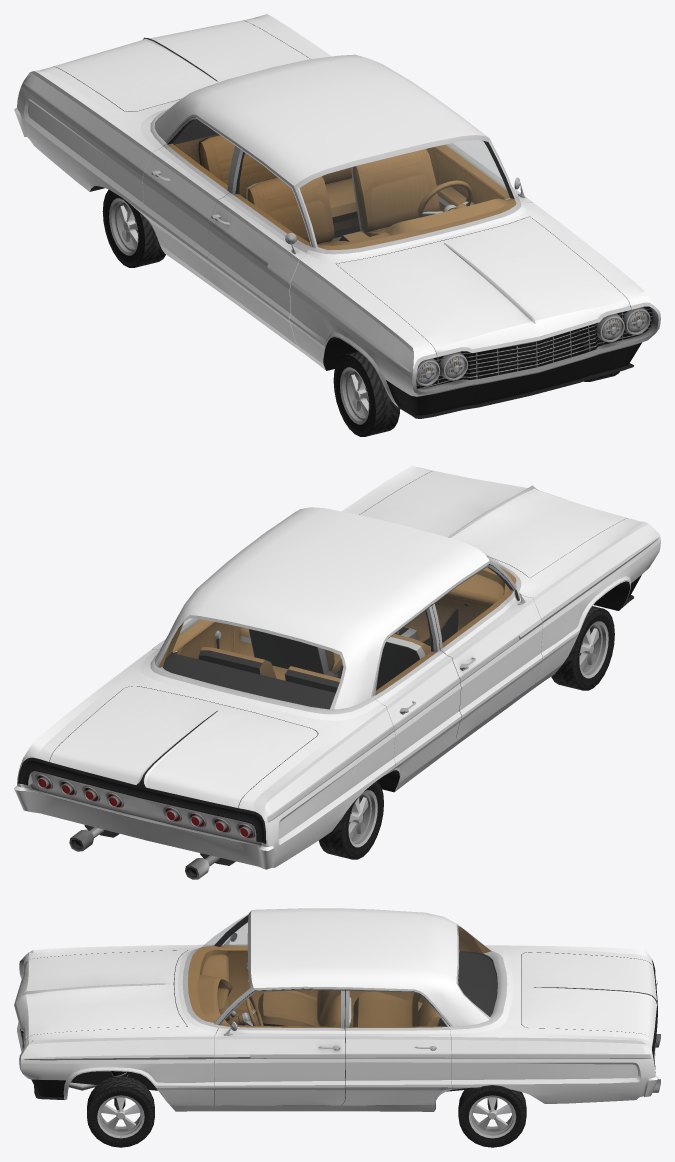
Rendered from Car_moded.fbx.
The picture shows the model from 3 angles, top to bottom: view 1: azimuth 30°, elevation 25°; view 2: azimuth 150°, elevation 25°; view 3: azimuth 270°, elevation 25°; orthographic projection. The views are drawn at different scales.
Visible parts, largest first — view 1: DC3_Sport_2_Body.001, DC3_Sport_2_Hood.003, DC3_Sport_2_Roof.001, DC3_Sport_2_Glass_F.001, DC3_Sport_2_Interior.001, DC3_Sport_2_Trunk.001, DC3_Sport_2_Door_FR.001, DC3_Sport_2_Door_BR.001, DC3_Sport_2_Wheel.003, DC3_Sport_2_Glass_FR.001, DC3_Sport_2_Door_FL.001, DC3_Sport_2_Wheel.002 (+3 smaller); view 2: DC3_Sport_2_Body.001, DC3_Sport_2_Roof.001, DC3_Sport_2_Trunk.001, DC3_Sport_2_Hood.003, DC3_Sport_2_Glass_B.001, DC3_Sport_2_Interior.001, DC3_Sport_2_Door_FR.001, DC3_Sport_2_Door_BR.001, DC3_Sport_2_Wheel.003, DC3_Sport_2_Glass_FR.001, DC3_Sport_2_Wheel.002, DC3_Sport_2_Glass_BR.001 (+2 smaller); view 3: DC3_Sport_2_Body.001, DC3_Sport_2_Roof.001, DC3_Sport_2_Hood.003, DC3_Sport_2_Door_FL.001, DC3_Sport_2_Trunk.001, DC3_Sport_1_Door_BL.001, DC3_Sport_2_Interior.001, DC3_Sport_2_Glass_F.001, DC3_Sport_2_Glass_FL.001, DC3_Sport_2_Wheel.003, DC3_Sport_2_Wheel.002, DC3_Sport_2_Glass_BL.001 (+4 smaller).
Part boxes in pixels (x1=…): DC3_Sport_2_Body.001: x1=14, y1=14, x2=660, y2=418; DC3_Sport_2_Hood.003: x1=336, y1=216, x2=631, y2=356; DC3_Sport_2_Roof.001: x1=154, y1=54, x2=488, y2=193; DC3_Sport_2_Glass_F.001: x1=300, y1=140, x2=515, y2=249; DC3_Sport_2_Interior.001: x1=198, y1=134, x2=516, y2=249; DC3_Sport_2_Trunk.001: x1=53, y1=20, x2=310, y2=111; DC3_Sport_2_Door_FR.001: x1=207, y1=146, x2=319, y2=343; DC3_Sport_2_Door_BR.001: x1=141, y1=117, x2=237, y2=285; DC3_Sport_2_Wheel.003: x1=333, y1=351, x2=619, y2=436; DC3_Sport_2_Glass_FR.001: x1=233, y1=151, x2=310, y2=245; DC3_Sport_2_Door_FL.001: x1=433, y1=143, x2=532, y2=211; DC3_Sport_2_Wheel.002: x1=102, y1=189, x2=165, y2=267; DC3_Sport_2_Body.001: x1=14, y1=465, x2=660, y2=869; DC3_Sport_2_Roof.001: x1=154, y1=507, x2=489, y2=709; DC3_Sport_2_Trunk.001: x1=48, y1=686, x2=317, y2=819; DC3_Sport_2_Hood.003: x1=359, y1=471, x2=627, y2=577; DC3_Sport_2_Glass_B.001: x1=159, y1=619, x2=342, y2=708; DC3_Sport_2_Interior.001: x1=198, y1=567, x2=516, y2=692; DC3_Sport_2_Door_FR.001: x1=432, y1=564, x2=542, y2=740; DC3_Sport_2_Door_BR.001: x1=373, y1=604, x2=461, y2=782; DC3_Sport_2_Wheel.003: x1=551, y1=606, x2=614, y2=690; DC3_Sport_2_Glass_FR.001: x1=435, y1=567, x2=512, y2=646; DC3_Sport_2_Wheel.002: x1=319, y1=780, x2=383, y2=859; DC3_Sport_2_Glass_BR.001: x1=376, y1=608, x2=436, y2=693; DC3_Sport_2_Body.001: x1=14, y1=911, x2=658, y2=1111; DC3_Sport_2_Roof.001: x1=251, y1=908, x2=491, y2=1027; DC3_Sport_2_Hood.003: x1=14, y1=950, x2=187, y2=1040; DC3_Sport_2_Door_FL.001: x1=214, y1=988, x2=345, y2=1105; DC3_Sport_2_Trunk.001: x1=521, y1=952, x2=657, y2=1048; DC3_Sport_1_Door_BL.001: x1=341, y1=989, x2=451, y2=1105; DC3_Sport_2_Interior.001: x1=188, y1=945, x2=444, y2=1026; DC3_Sport_2_Glass_F.001: x1=188, y1=914, x2=249, y2=1022; DC3_Sport_2_Glass_FL.001: x1=221, y1=990, x2=340, y2=1027; DC3_Sport_2_Wheel.003: x1=87, y1=1076, x2=154, y2=1147; DC3_Sport_2_Wheel.002: x1=458, y1=1085, x2=526, y2=1147; DC3_Sport_2_Glass_BL.001: x1=349, y1=991, x2=446, y2=1027.
Bounding box in the file's own units: 197 × 143 × 527.
Materials: 7 (6 with a texture image).
